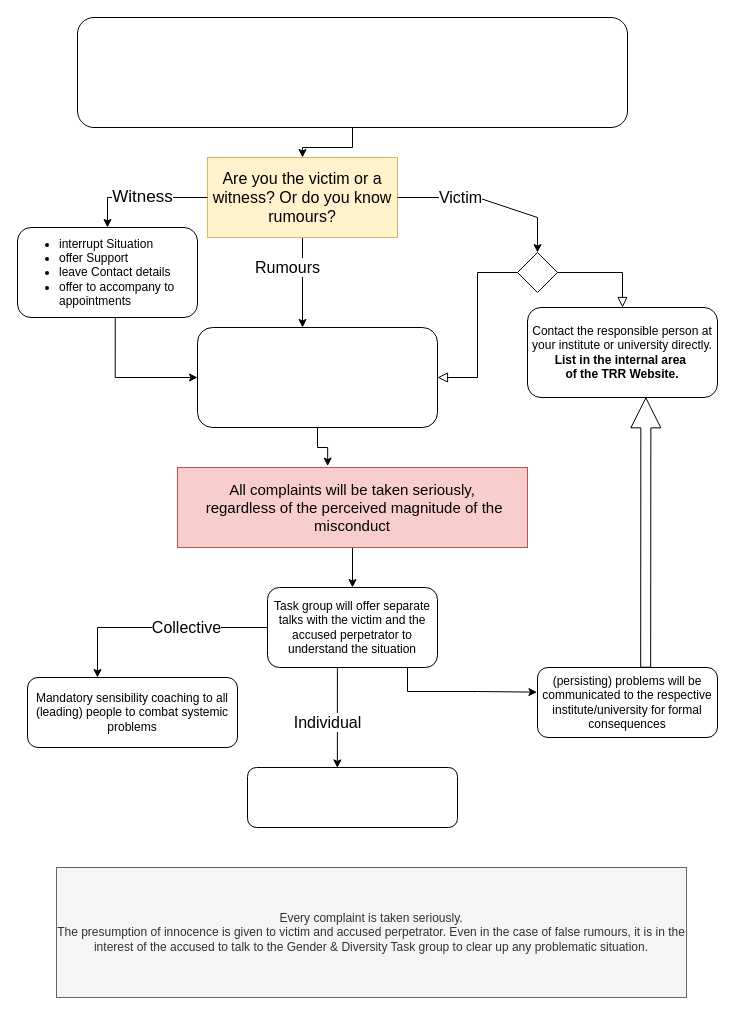
Image size: 735x1015. Some labels were removed from this diagram. Here are the shapes that lost their labels. From the top down, the centre of each, then its label:
(352,72): Misconduct happened What can you do?
(317,377): Contact the TRR Equality & Diversity Task group or the TRR steering committee
(352,797): Offer of external coaching / therapy to victim and accused perpetrator
